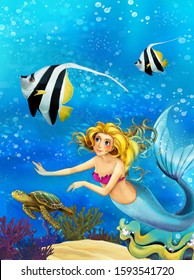fish: (18, 62, 130, 127), (133, 36, 180, 79)
